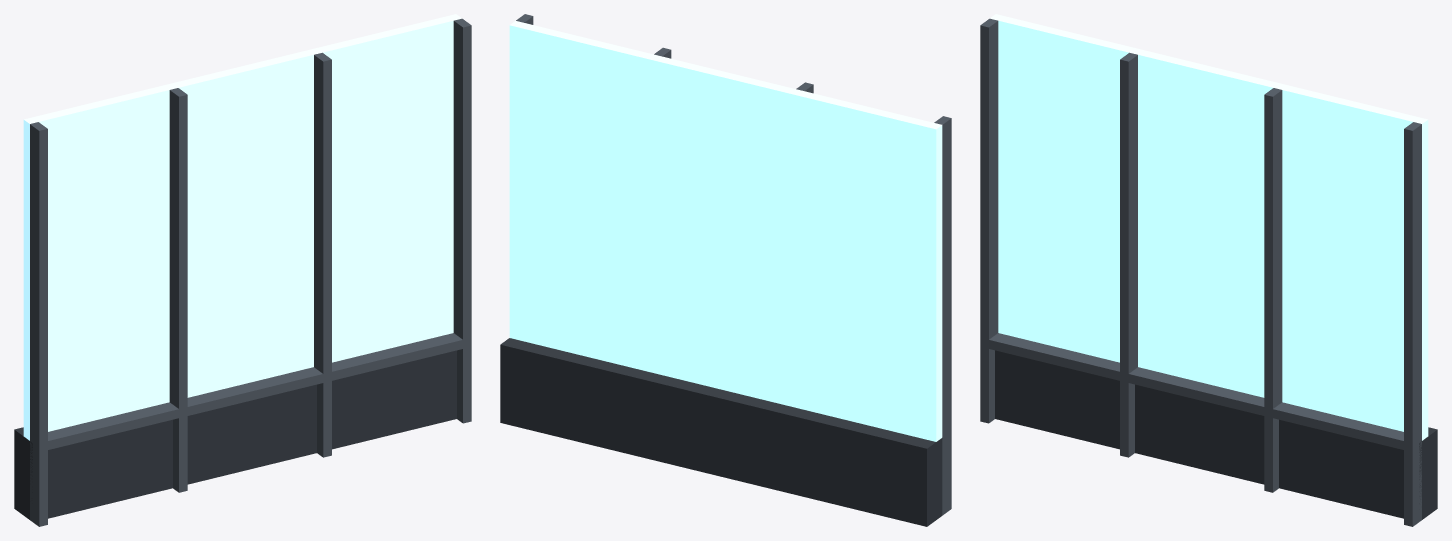
Rendered from cg_win.glb.
The picture shows the model from 3 angles, left to right: view 1: azimuth 30°, elevation 25°; view 2: azimuth 150°, elevation 25°; view 3: azimuth 330°, elevation 25°; orthographic projection.
Parts seen in each view (by area): view 1: city_cg_win; view 2: city_cg_win; view 3: city_cg_win.
Boxes of the visible parts, x1,y1,x2,y2 form: city_cg_win: (14,14,471,526); city_cg_win: (500,14,951,526); city_cg_win: (980,14,1437,526).
Bounding box in the file's own units: 4 × 3.5 × 0.4.
1 material, 1 textured.
